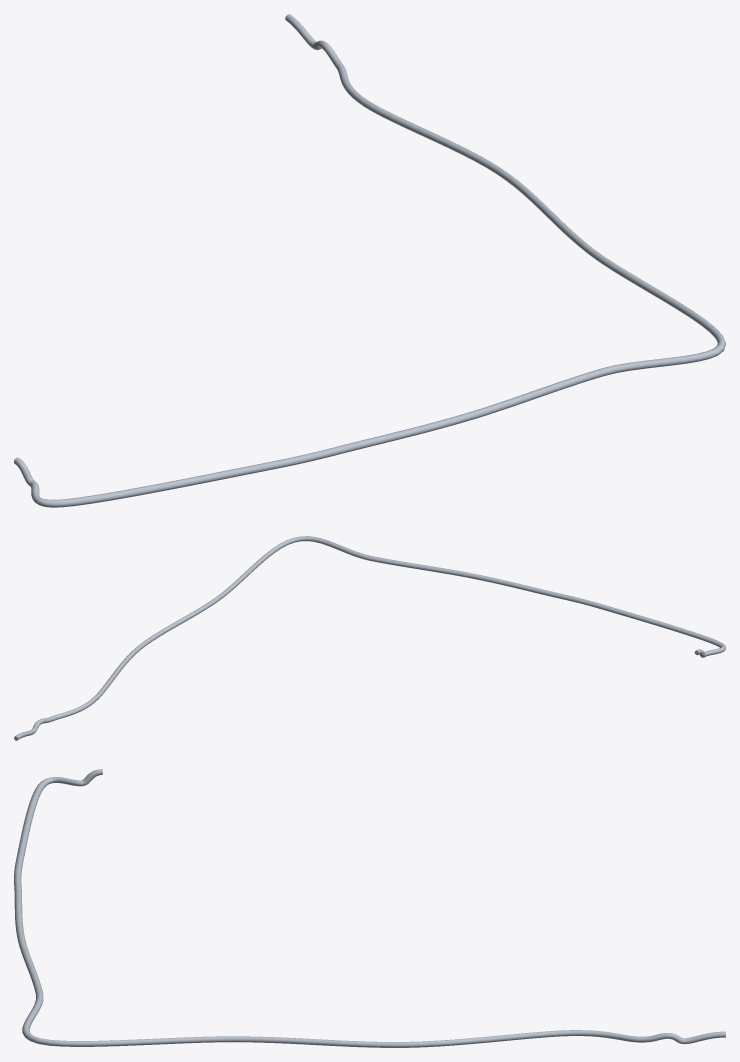
Rendered from SM_Cable_2_Splines_7.fbx.
3 views of the same model, one above another, from view 1: azimuth 30°, elevation 25°; view 2: azimuth 150°, elevation 25°; view 3: azimuth 270°, elevation 25° (orthographic). The views are drawn at different scales.
Parts seen in each view (by area): view 1: SM_Cable_2_Splines_7; view 2: SM_Cable_2_Splines_7; view 3: SM_Cable_2_Splines_7.
Boxes of the visible parts, bbox=[...] form: SM_Cable_2_Splines_7: bbox=[14, 14, 725, 507]; SM_Cable_2_Splines_7: bbox=[14, 536, 725, 740]; SM_Cable_2_Splines_7: bbox=[14, 769, 725, 1047].
Bounding box in the file's own units: 755 × 852 × 23.62.
